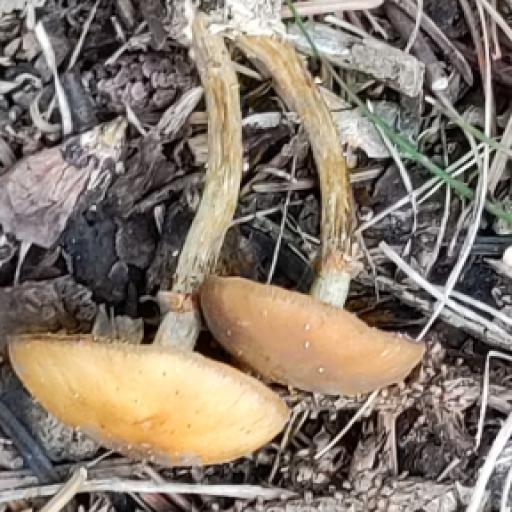mushroom: (8, 210, 439, 482)
